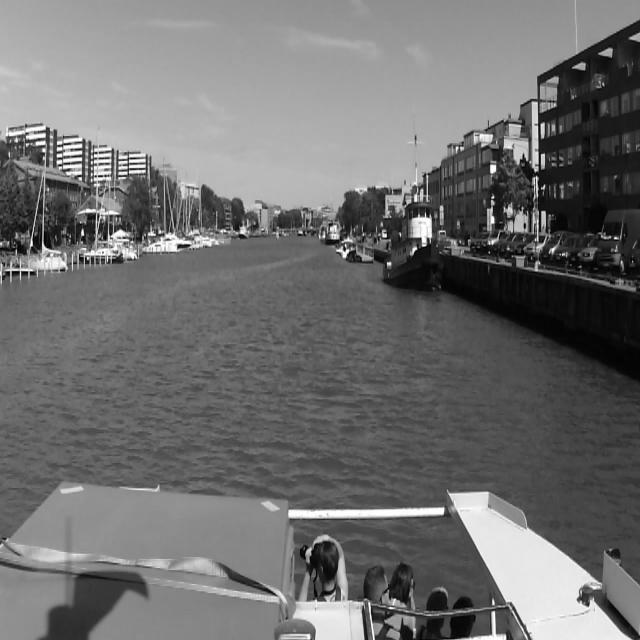ship: (383, 201, 443, 291), (138, 220, 190, 256), (28, 247, 68, 273), (142, 235, 192, 253), (78, 247, 124, 263), (345, 244, 363, 262), (327, 223, 341, 243), (344, 241, 354, 255), (239, 226, 249, 239)
